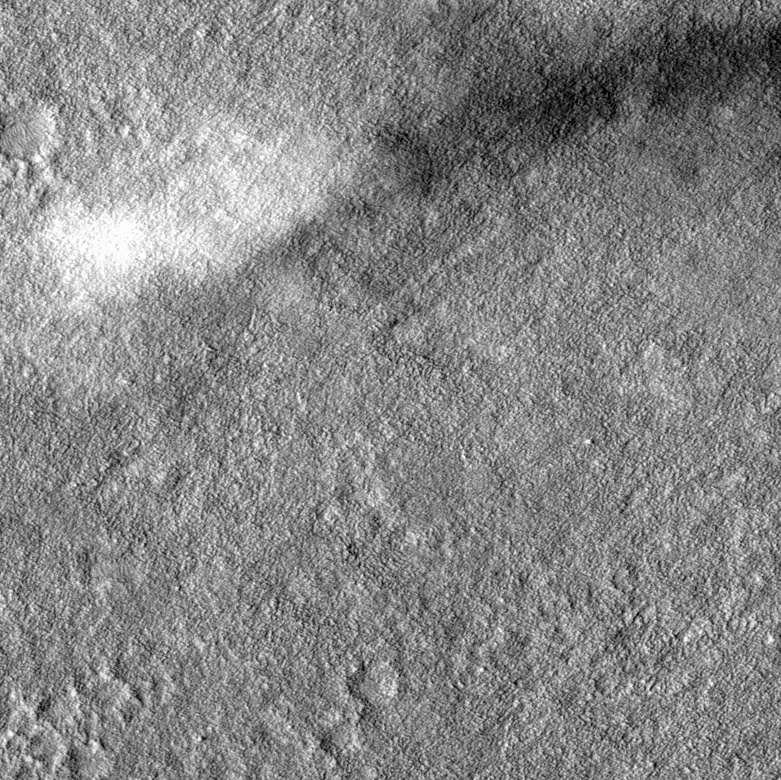dust_devil: (24, 1, 781, 320)
